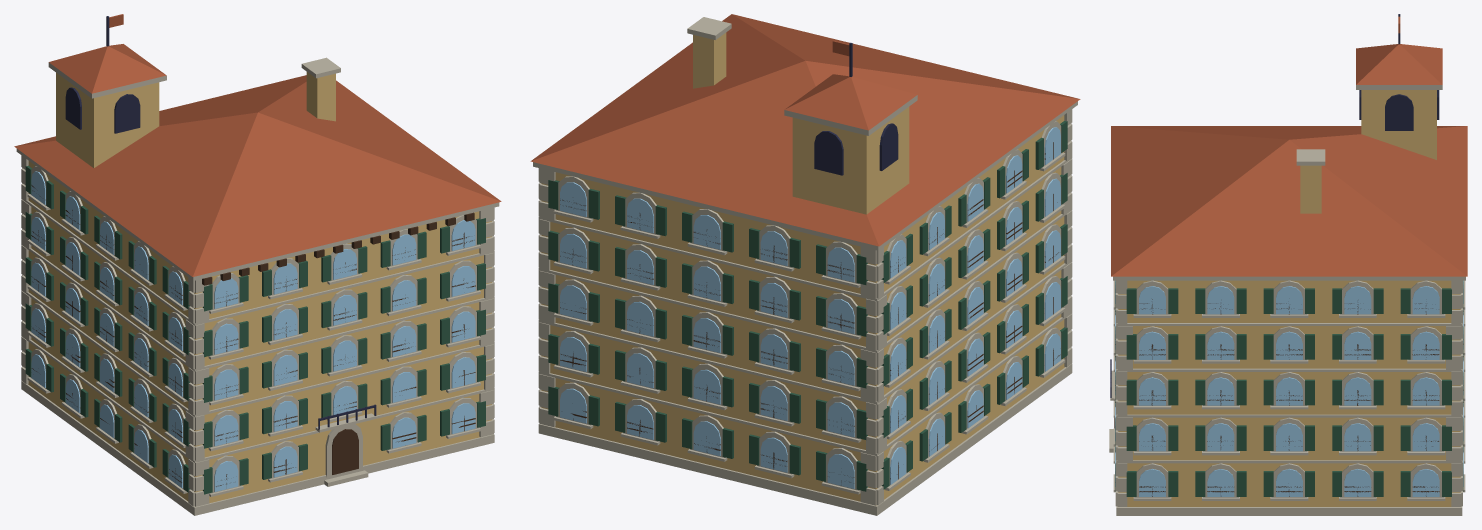
The model's file is house-2x2-5f-tuscan-a.glb.
3 views of the same model, side by side, from view 1: azimuth 30°, elevation 25°; view 2: azimuth 150°, elevation 25°; view 3: azimuth 270°, elevation 25° (orthographic). The views are drawn at different scales.
Parts seen in each view (by area): view 1: house-2x2-5f-tuscan-a; view 2: house-2x2-5f-tuscan-a; view 3: house-2x2-5f-tuscan-a.
Boxes of the visible parts, <box> form: house-2x2-5f-tuscan-a: <box>14,14,501,515</box>; house-2x2-5f-tuscan-a: <box>530,14,1080,515</box>; house-2x2-5f-tuscan-a: <box>1109,14,1467,515</box>.
Size of the model in its own units: 1.98 by 2.34 by 1.99.
1 material, 1 textured.
